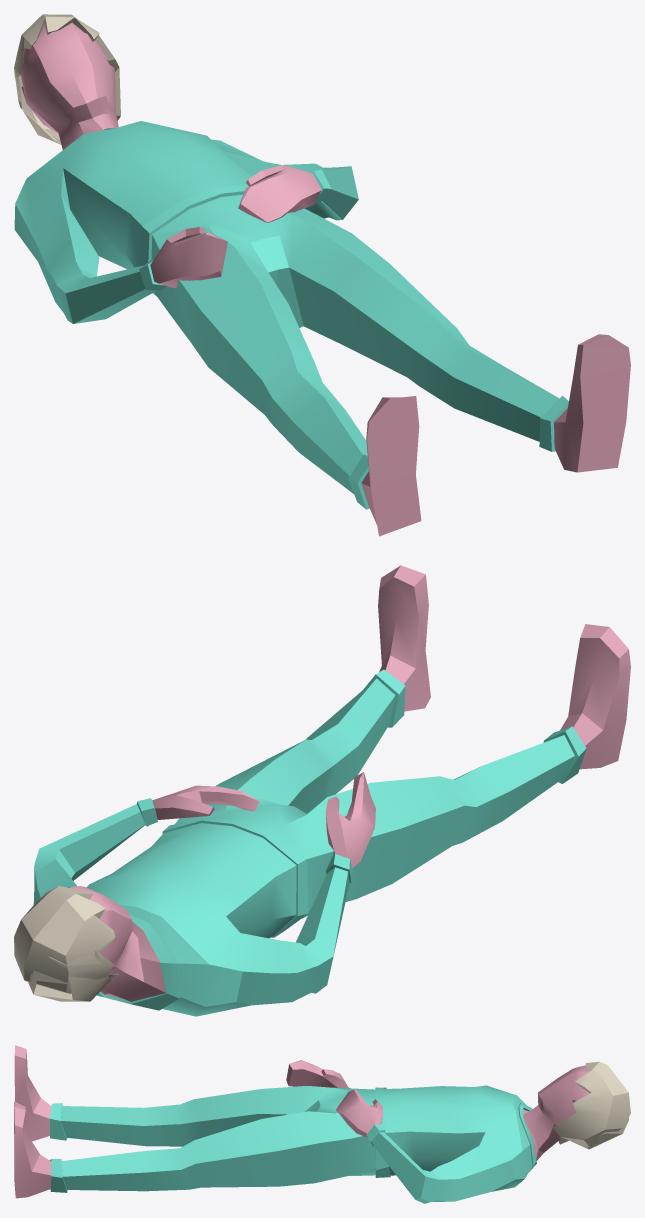
The model's file is patient2_02.fbx.
The picture shows the model from 3 angles, top to bottom: view 1: azimuth 30°, elevation 25°; view 2: azimuth 150°, elevation 25°; view 3: azimuth 270°, elevation 25°; orthographic projection. The views are drawn at different scales.
Parts seen in each view (by area): view 1: Patient; view 2: Patient; view 3: Patient.
Boxes of the visible parts, box(x1,y1,x2,y2) form: Patient: box(14, 14, 630, 536); Patient: box(14, 565, 630, 1016); Patient: box(14, 1045, 630, 1203).
Size of the model in its own units: 63.52 by 35.35 by 172.
